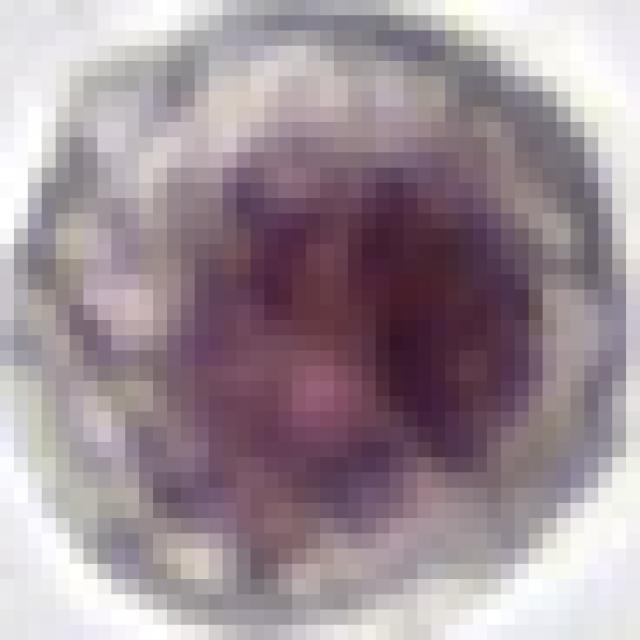cytoplasm: (0, 2, 626, 625)
nucleus: (47, 62, 636, 640)
